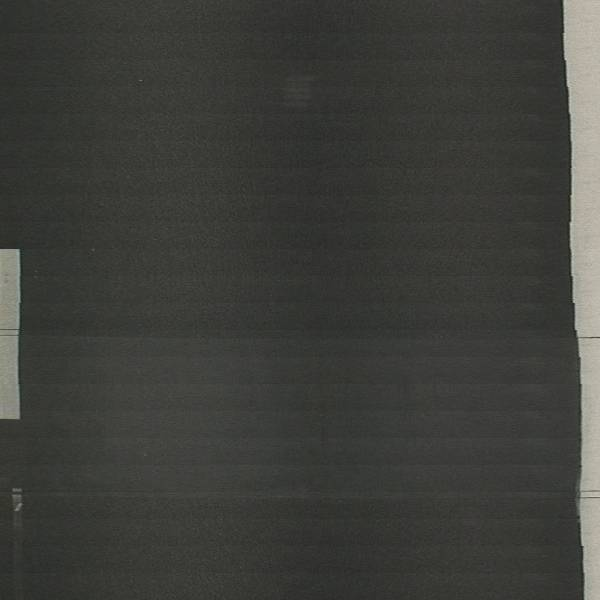road_damage: (34, 316, 595, 526)
